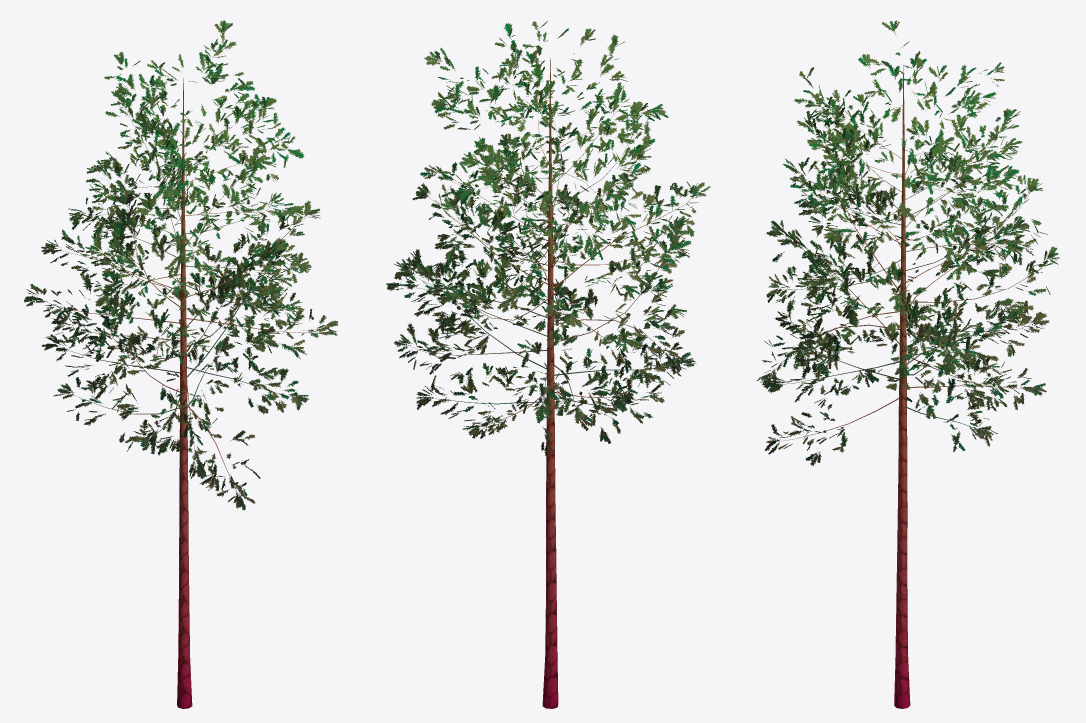
3 renders of one model, left to right at view 1: azimuth 30°, elevation 25°; view 2: azimuth 150°, elevation 25°; view 3: azimuth 270°, elevation 25°, orthographic. The views are drawn at different scales.
Parts seen in each view (by area): view 1: ponderosa_pine_LOD1; view 2: ponderosa_pine_LOD1; view 3: ponderosa_pine_LOD1.
Boxes of the visible parts, x1=… form: ponderosa_pine_LOD1: x1=24, y1=20, x2=337, y2=708; ponderosa_pine_LOD1: x1=385, y1=21, x2=710, y2=708; ponderosa_pine_LOD1: x1=757, y1=20, x2=1059, y2=708.
Bounding box in the file's own units: 15.01 × 34.71 × 15.1.
2 materials, 2 textured.
